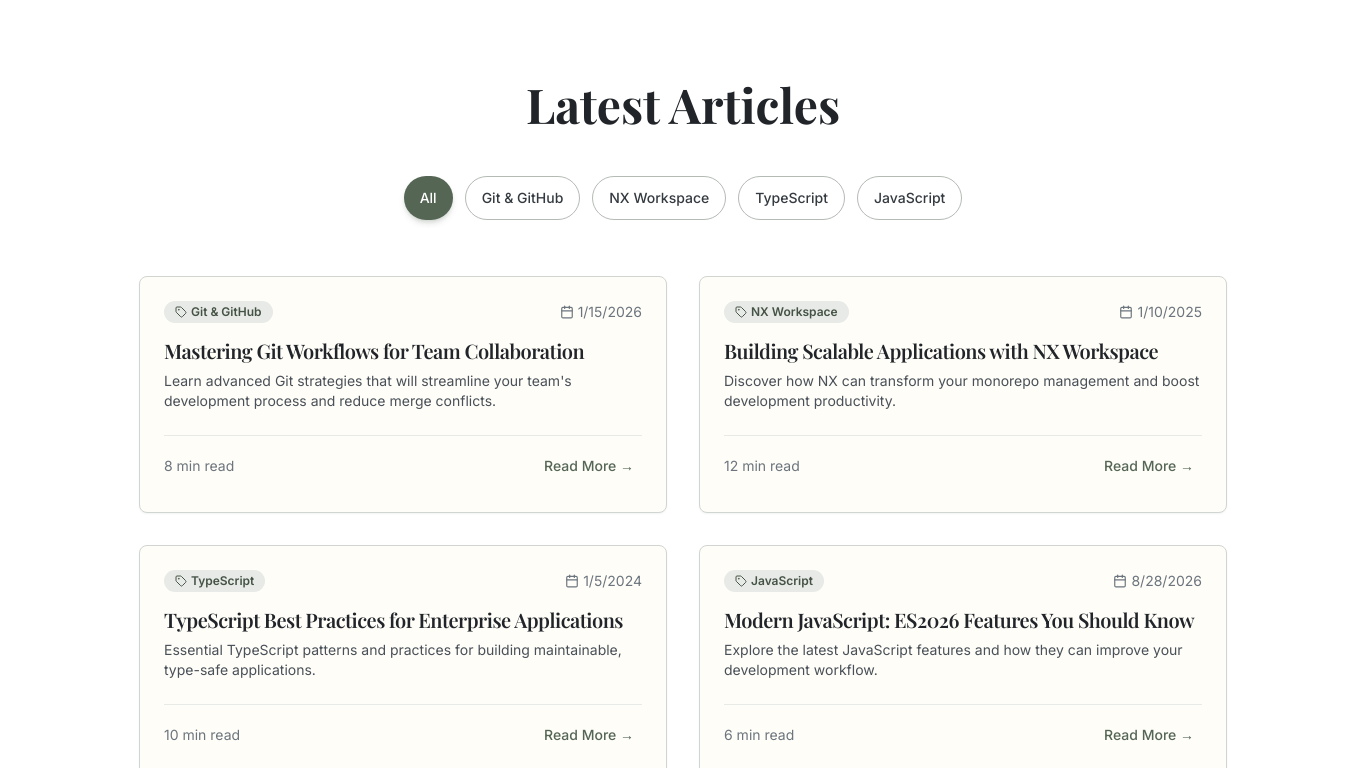
Scenario: BlogSection › resets filter when 'All' category is clicked
The width and height of the screenshot is (1366, 768).
Click the button "TypeScript".
click(792, 198)  # box [738,176,845,220]
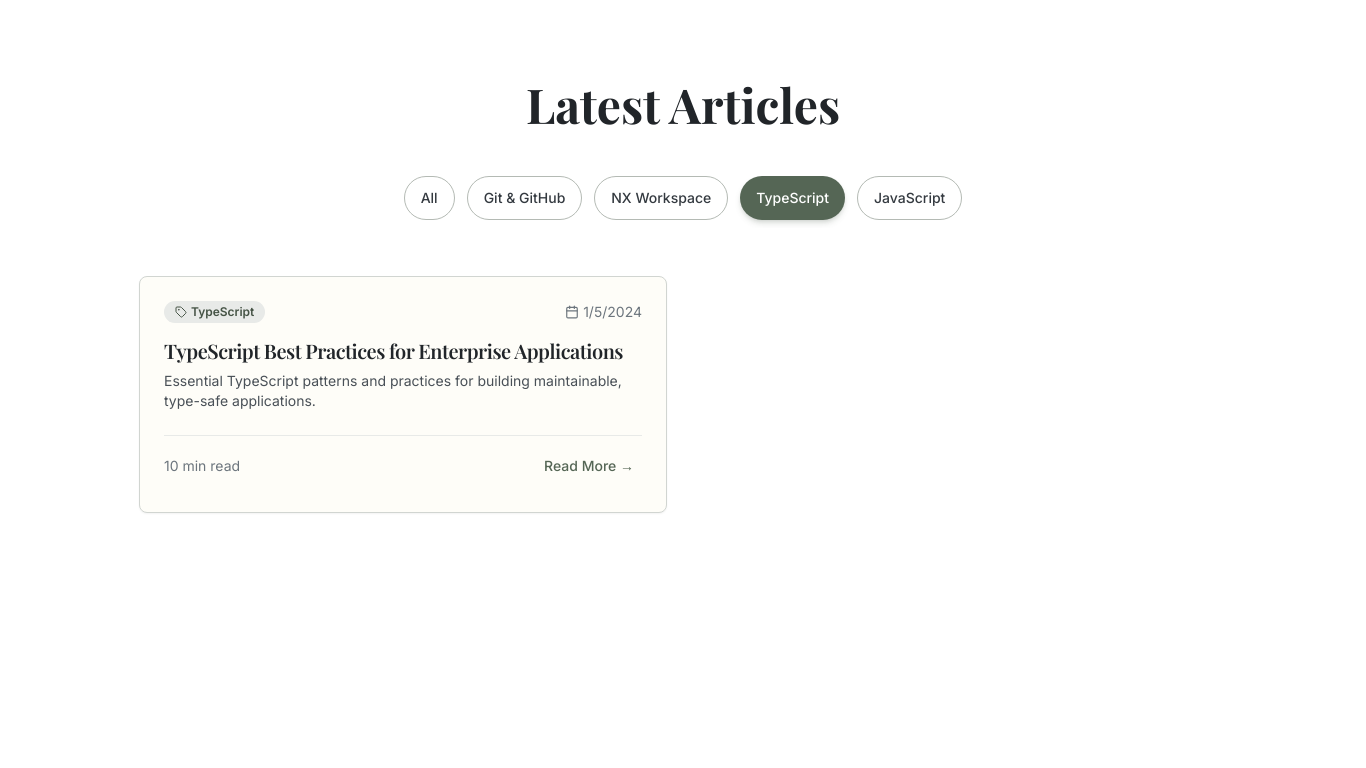
Click the button "All".
click(429, 198)  # box [404,176,455,220]
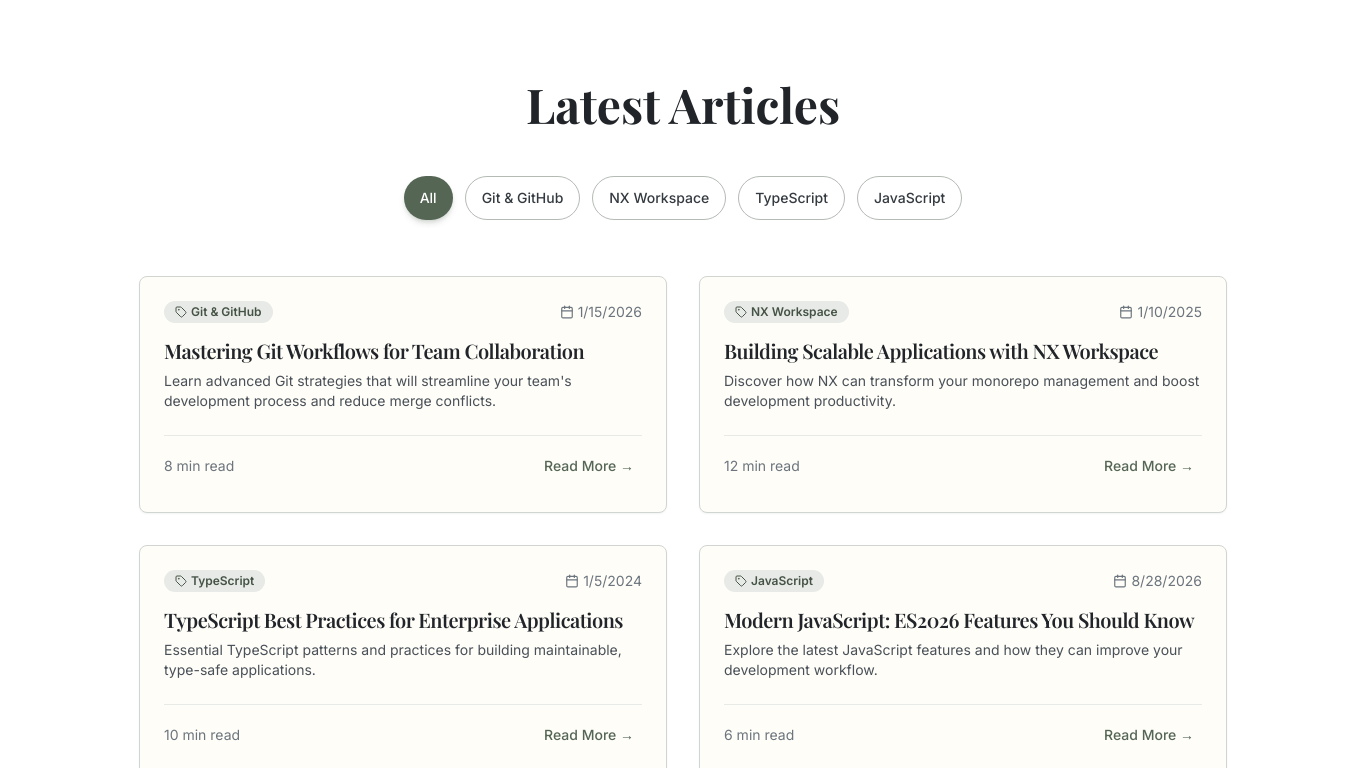
Expected: the text "Mastering Git Workflows for Team Collaboration" is shown, [164,337,642,365]
Expected: the text "Building Scalable Applications with NX Workspace" is shown, [724,337,1202,365]
Expected: the text "Modern JavaScript: ES2026 Features You Should Know" is shown, [724,606,1202,634]
